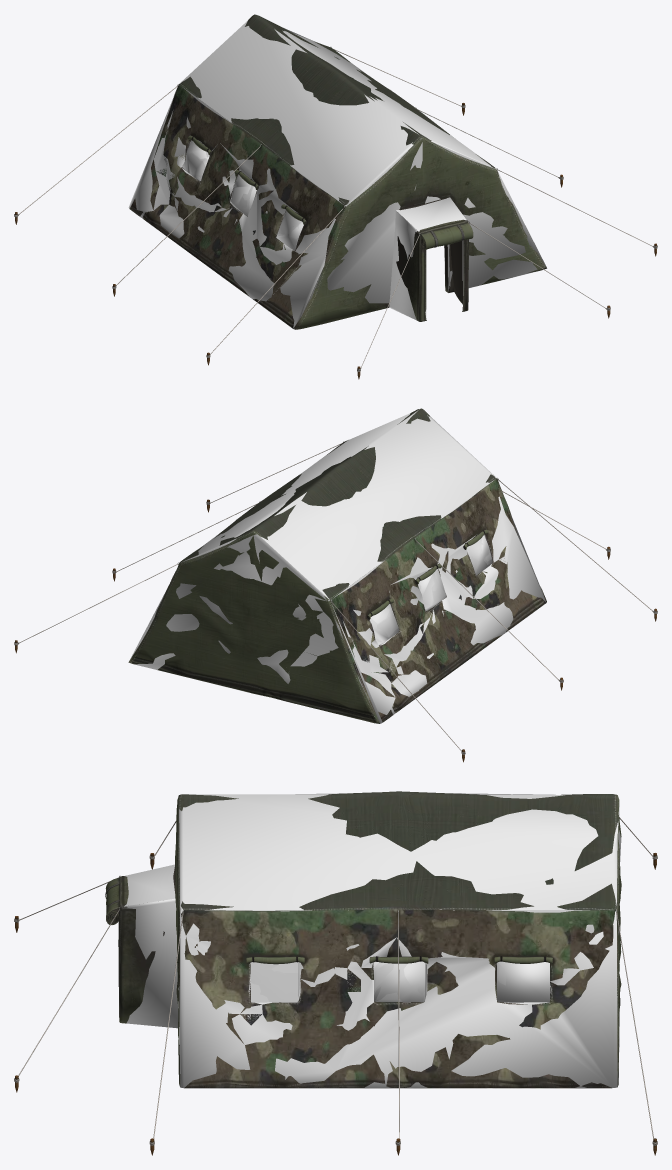
File: tent_military.glb
The picture shows the model from 3 angles, top to bottom: view 1: azimuth 30°, elevation 25°; view 2: azimuth 150°, elevation 25°; view 3: azimuth 270°, elevation 25°; orthographic projection. The views are drawn at different scales.
Visible parts, largest first — view 1: tent_military_col, Military_tent, Military_tent_01_0_nocol; view 2: Military_tent, tent_military_col, Military_tent_01_0_nocol; view 3: tent_military_col, Military_tent, Military_tent_01_0_nocol.
Part boxes in pixels (x1,y1,x2,y2): tent_military_col: (128,20,546,328); Military_tent: (130,14,546,329); Military_tent_01_0_nocol: (14,46,657,379); Military_tent: (128,408,546,723); tent_military_col: (129,409,546,723); Military_tent_01_0_nocol: (14,441,657,762); tent_military_col: (124,793,621,1087); Military_tent: (118,791,621,1088); Military_tent_01_0_nocol: (14,817,657,1155).
Bounding box in the file's own units: 11.17 × 4 × 10.55.
Materials: 2 (1 with a texture image).
